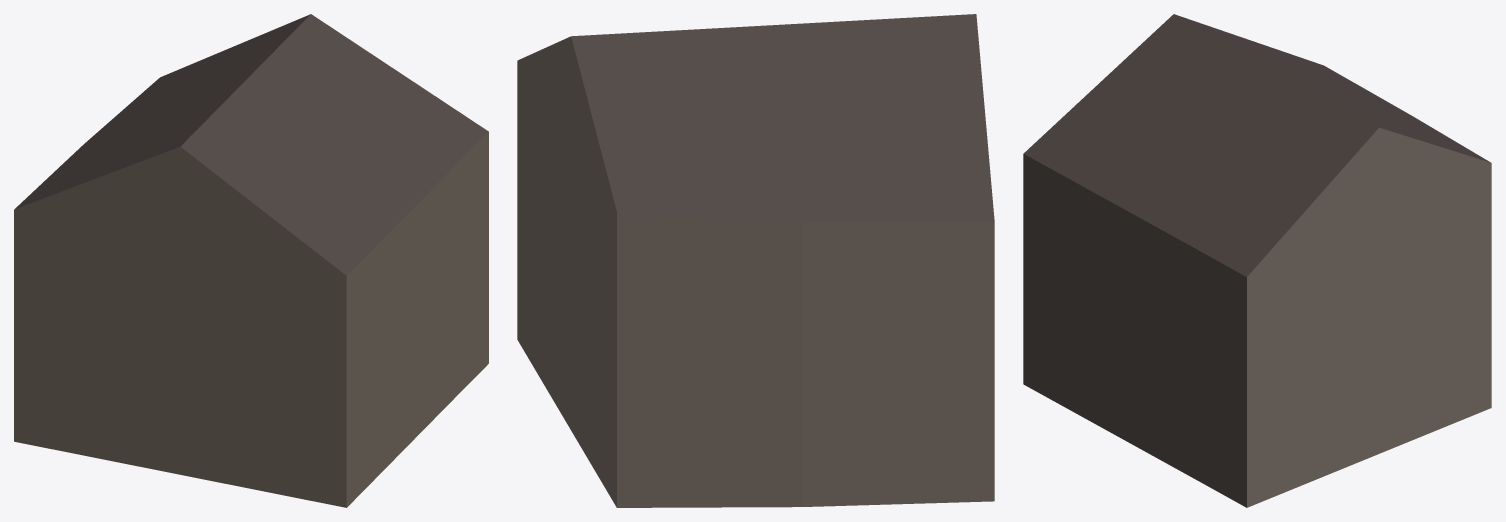
3 renders of one model, left to right at view 1: azimuth 30°, elevation 25°; view 2: azimuth 150°, elevation 25°; view 3: azimuth 270°, elevation 25°, orthographic. The views are drawn at different scales.
Visible parts, largest first — view 1: HP-w1513026725; view 2: HP-w1513026725; view 3: HP-w1513026725.
Boxes of the visible parts, x1,y1,x2,y2 form: HP-w1513026725: (14,14,488,507); HP-w1513026725: (517,14,994,507); HP-w1513026725: (1023,14,1491,507).
Size of the model in its own units: 11.81 by 8.49 by 11.03.
